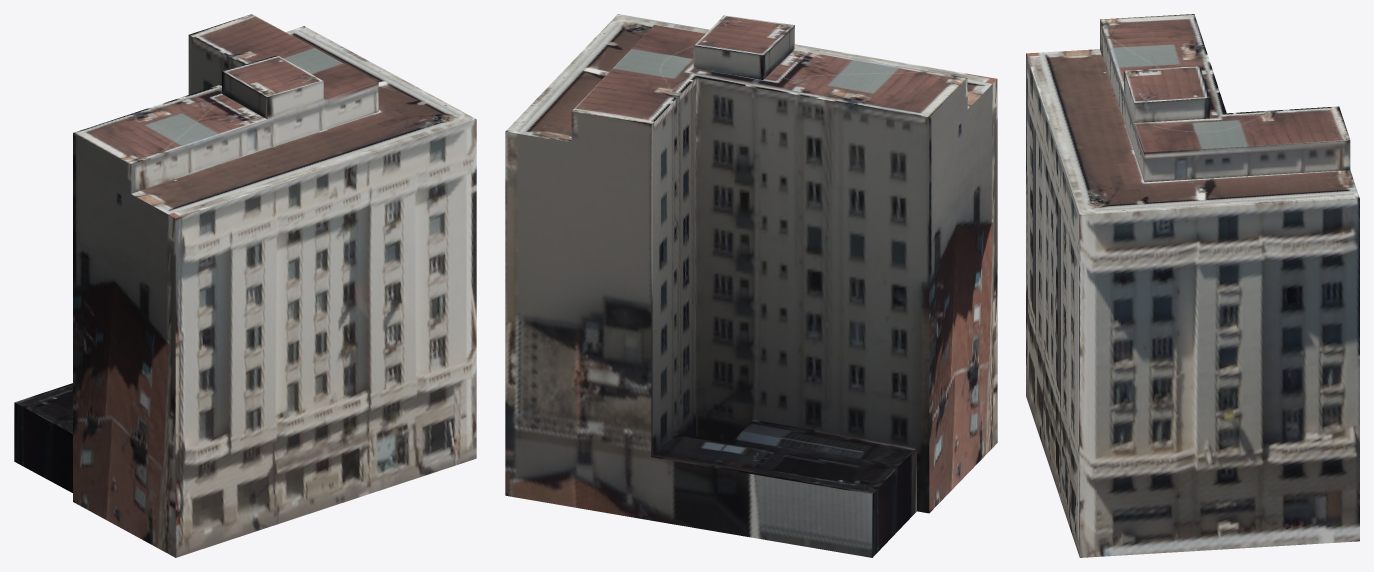
3 views of the same model, side by side, from view 1: azimuth 30°, elevation 25°; view 2: azimuth 150°, elevation 25°; view 3: azimuth 270°, elevation 25° (orthographic). The views are drawn at different scales.
Parts seen in each view (by area): view 1: Z_UP; view 2: Z_UP; view 3: Z_UP.
Boxes of the visible parts, bbox=[...] form: Z_UP: bbox=[14, 14, 476, 557]; Z_UP: bbox=[505, 14, 997, 557]; Z_UP: bbox=[1026, 14, 1359, 557].
Bounding box in the file's own units: 31.32 × 33.5 × 25.6.
2 materials, 1 textured.
